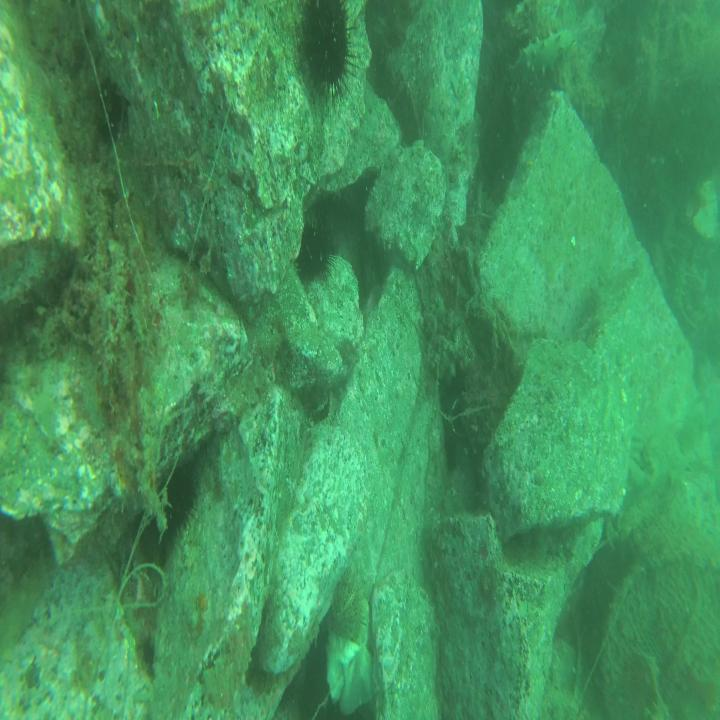echinus: (295, 2, 361, 104), (151, 457, 201, 555), (293, 218, 336, 284), (329, 573, 366, 646)
holothurian: (490, 22, 576, 120), (580, 259, 640, 345), (671, 241, 696, 333)
